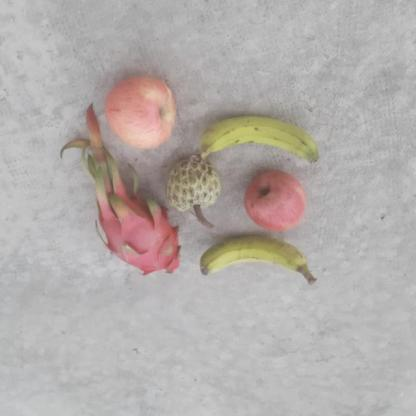annona: (162, 153, 222, 219)
apple: (104, 72, 180, 150), (243, 169, 307, 235)
banana: (197, 116, 318, 165), (191, 235, 309, 277)
pitaya: (86, 195, 184, 283)
